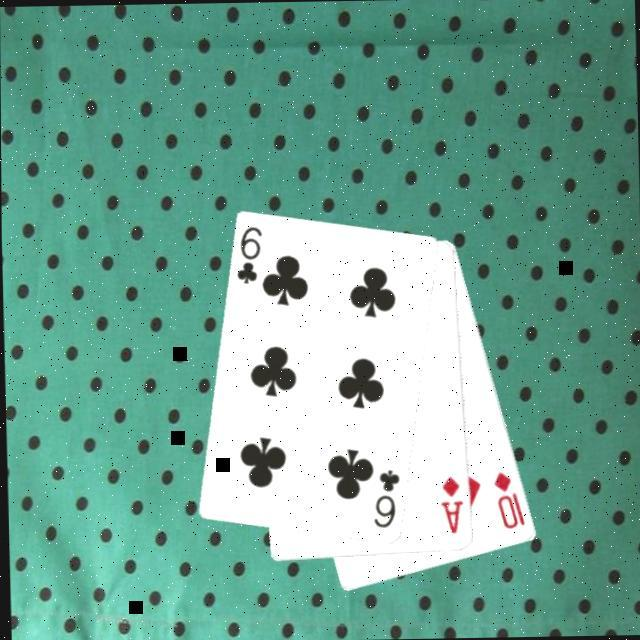10D: (490, 468, 528, 533)
6C: (369, 467, 404, 532), (234, 224, 266, 288)
AD: (438, 474, 467, 536)
